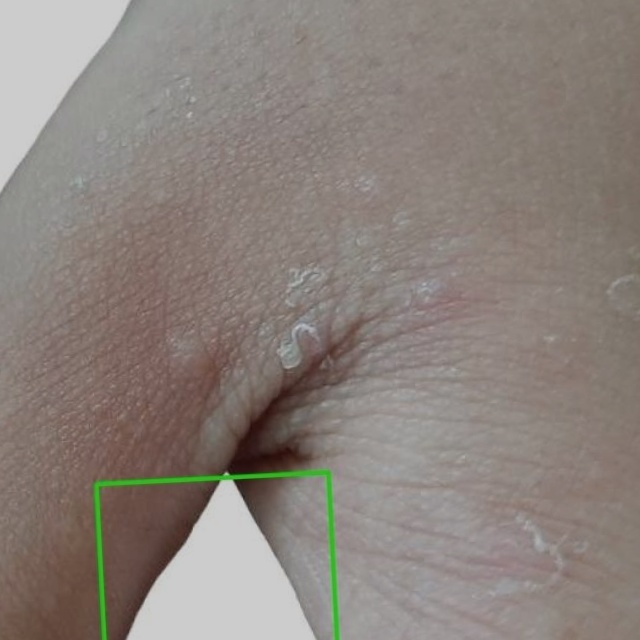Scabies: (96, 472, 337, 639)
